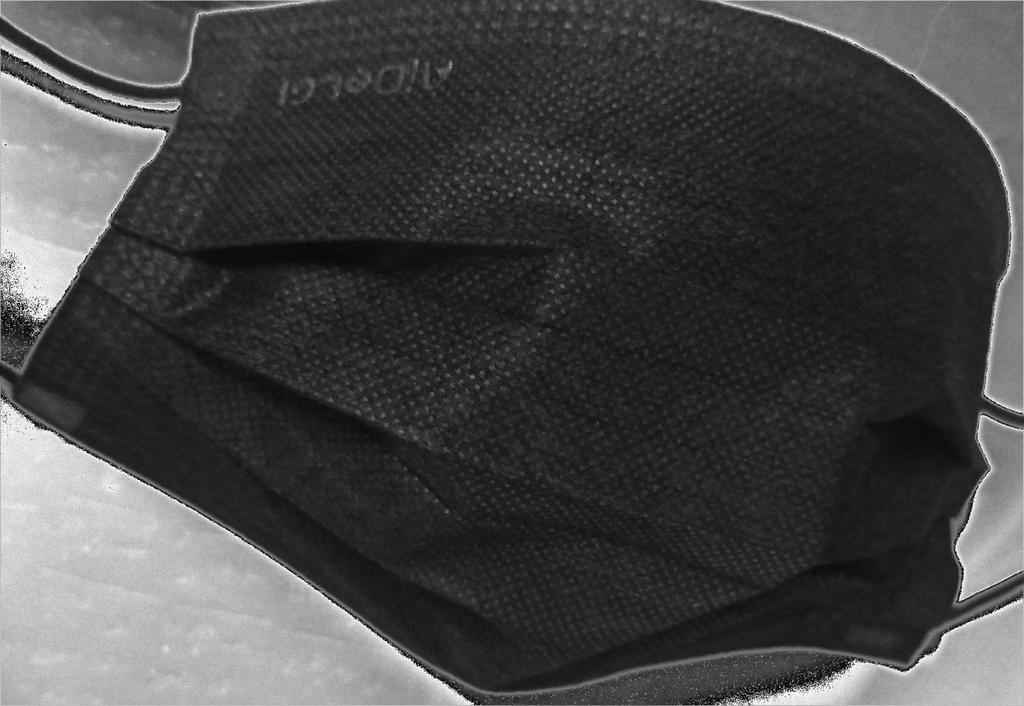Low GSM: (9, 1, 1019, 706)
